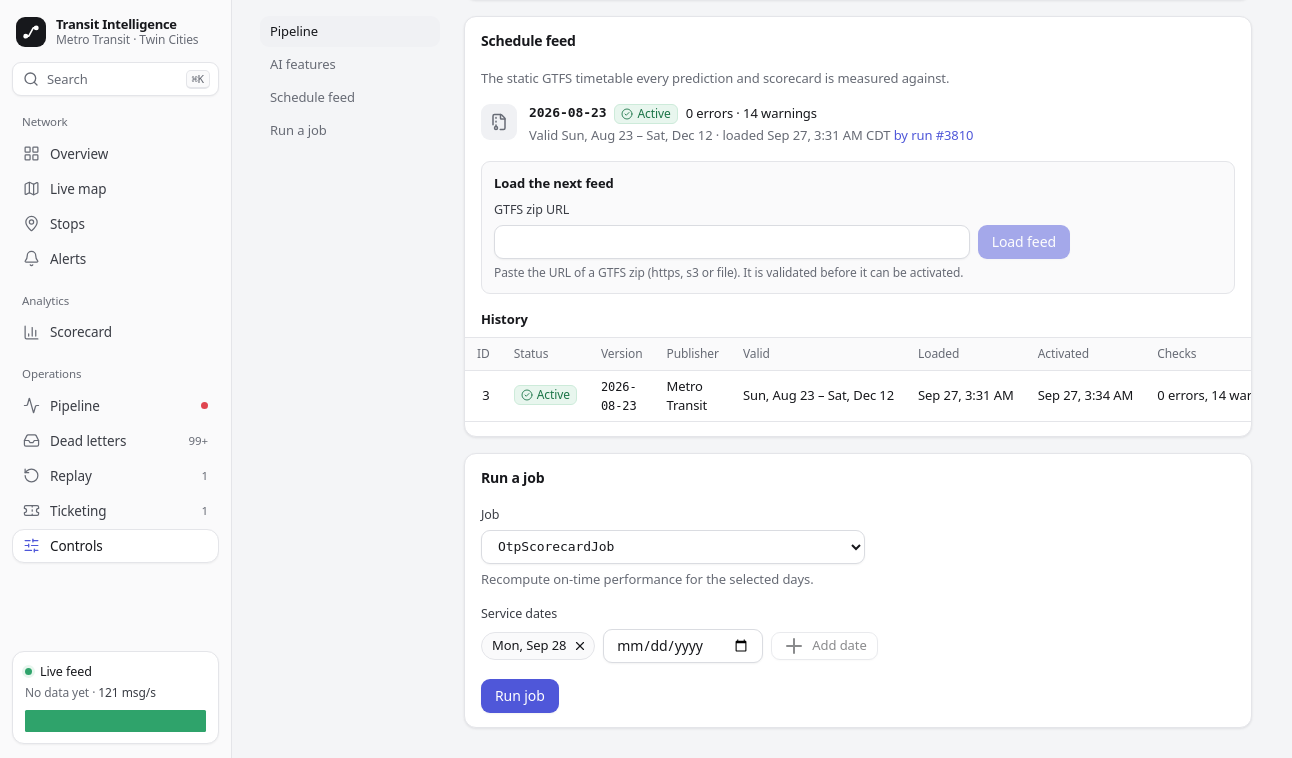
Test case: Controls: Run a job › says the times are business time when the clock is shifted
(page scrolled)
Select "AnalyticsRecomputeJob" in the dropdown at (673, 547), box [481,530,865,564]
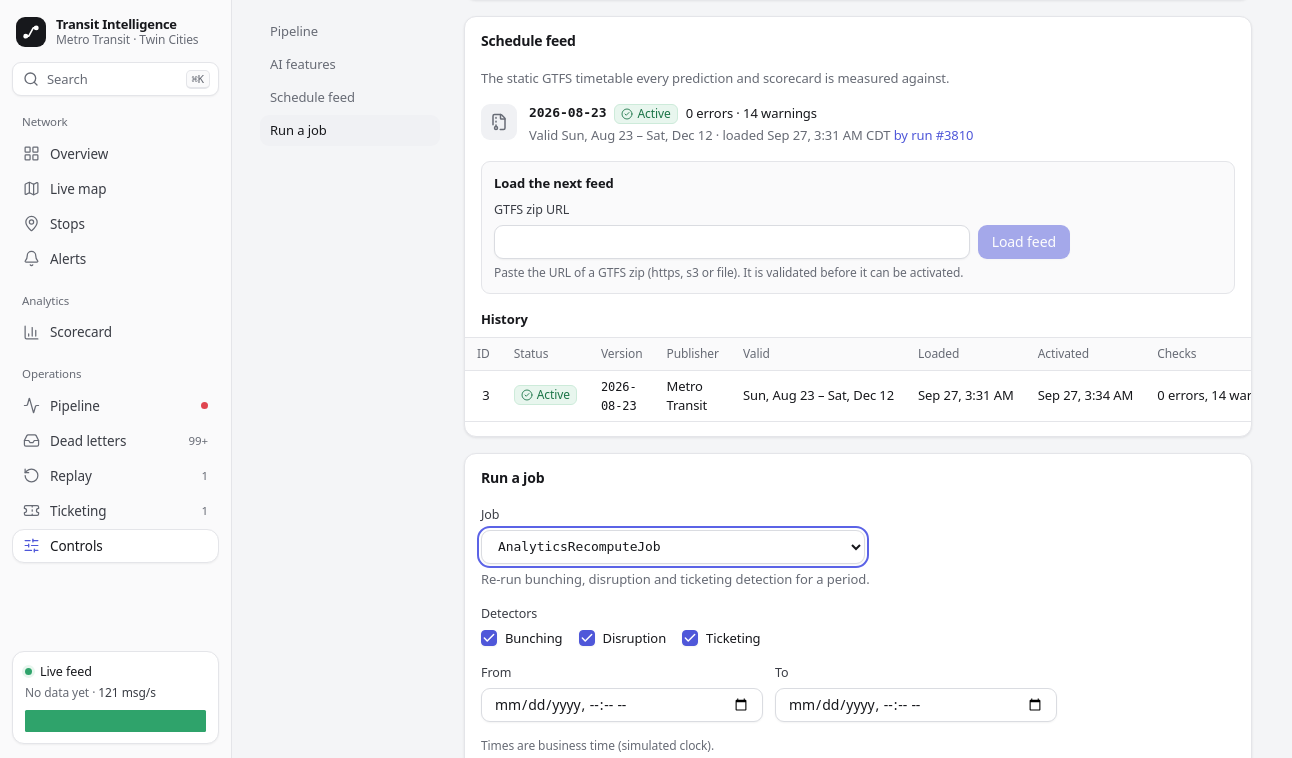
Expected: the text "Times are business time (simulated clock)." is shown, [481,737,714,754]
